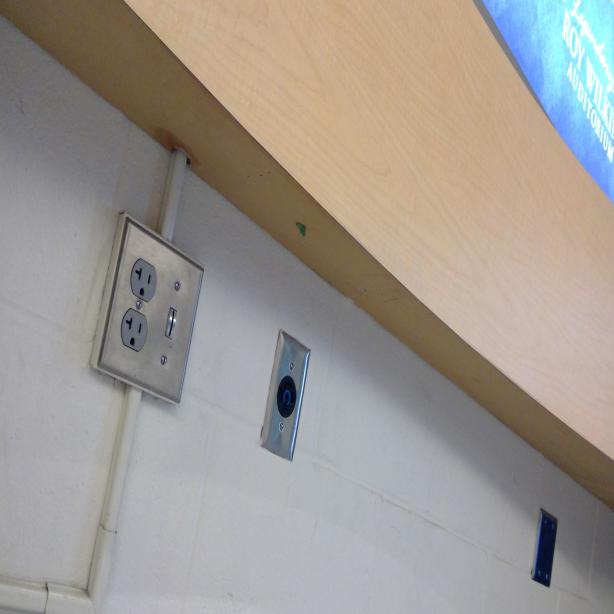typeb: (120, 308, 147, 354), (130, 262, 156, 303)
